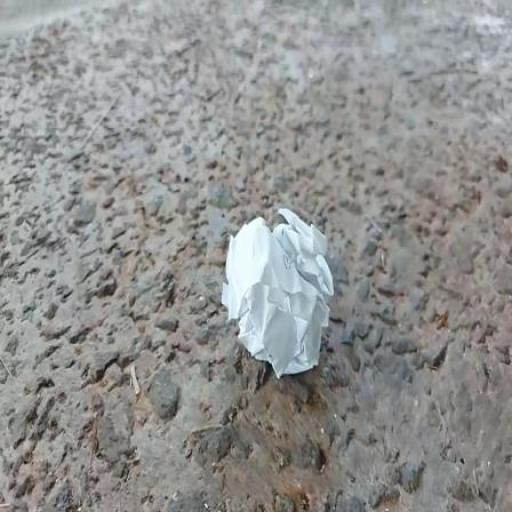paper: (173, 180, 389, 418)
